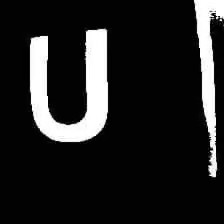LTR_U: (19, 19, 110, 145)
